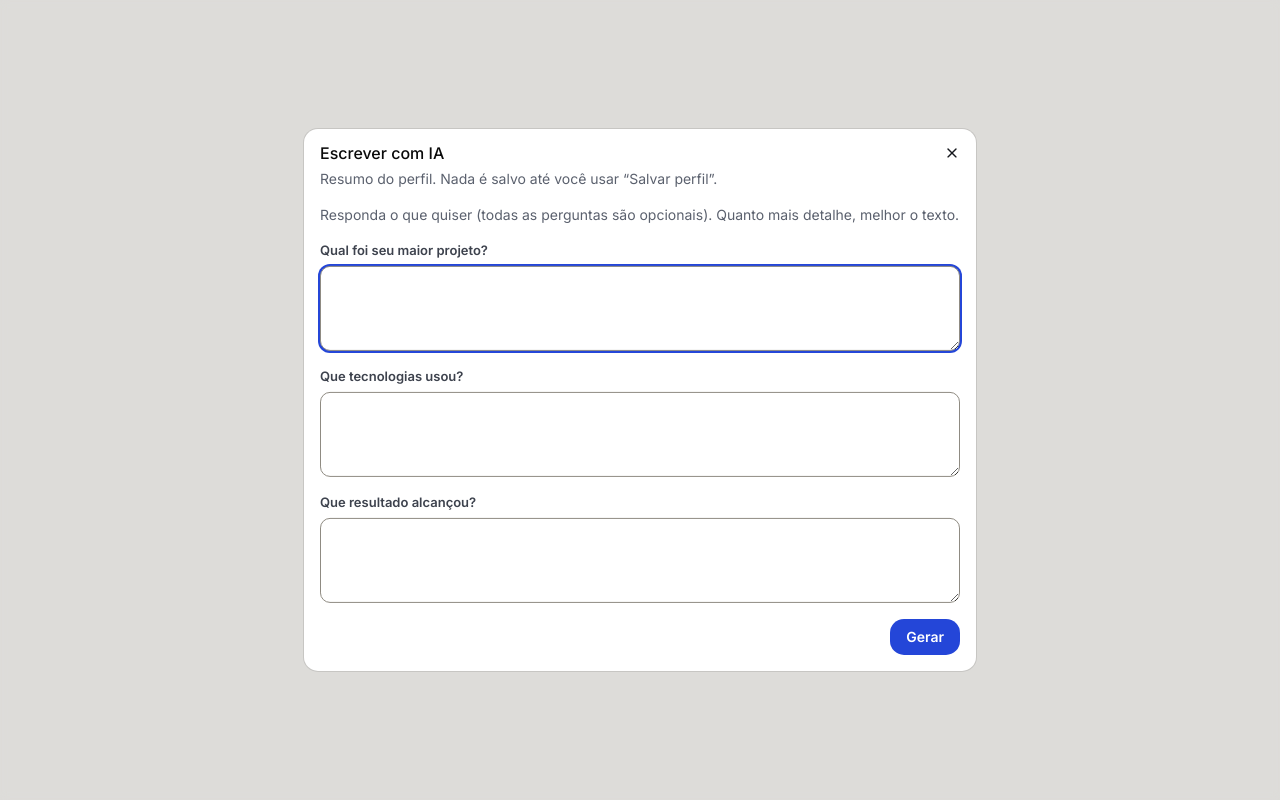
Test case: AssistantDialog: entrevista › invalid_output de JSON/schema inválido mostra a mensagem genérica
Click the button "Gerar" at (925, 637), box [890,619,960,655]
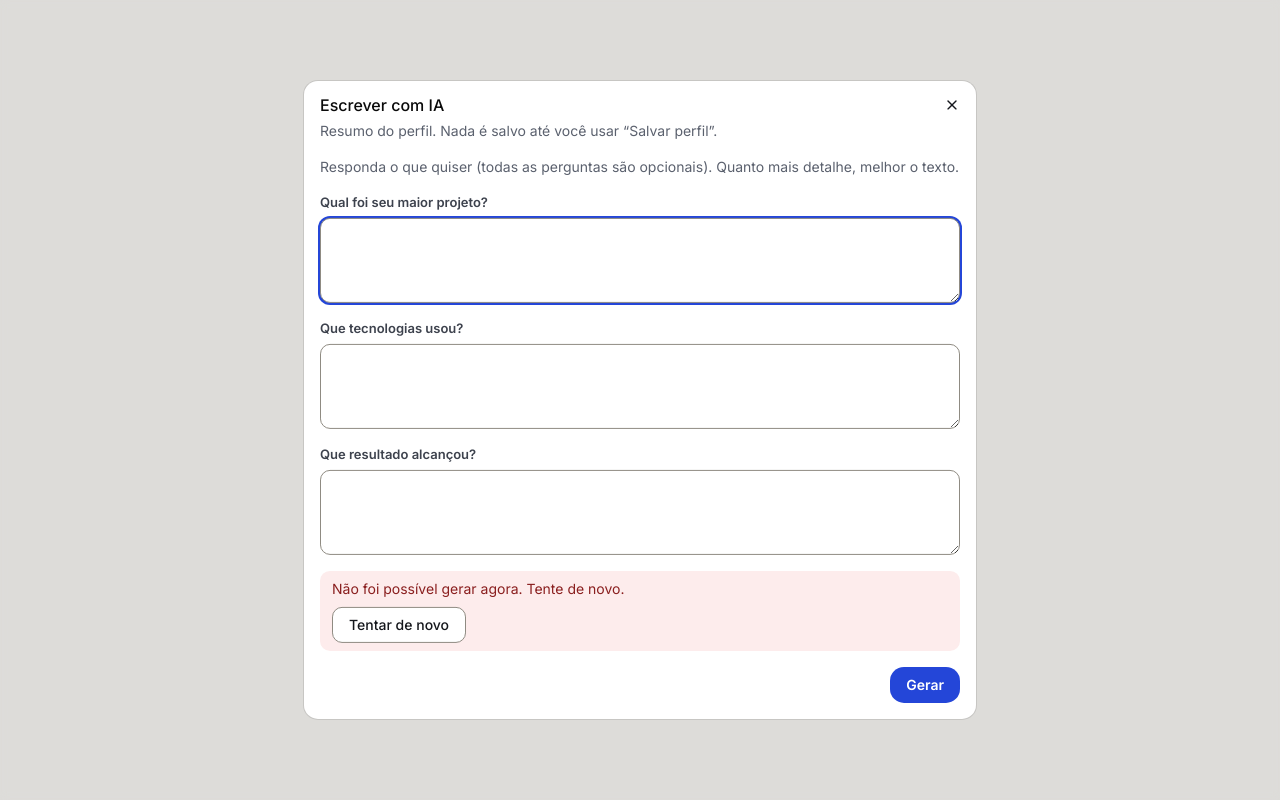
expect the message shows "Não foi possível gerar agora. Tente de novo.": met, box [332,580,624,597]
